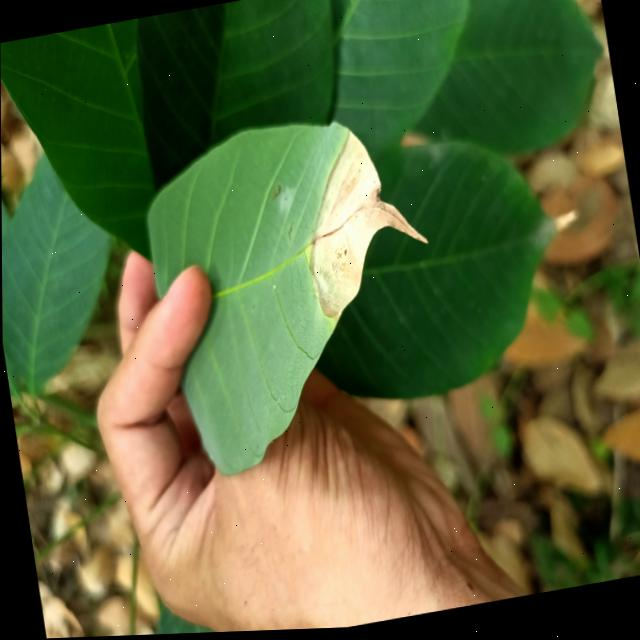Leaf-Blight: (290, 120, 438, 326)
